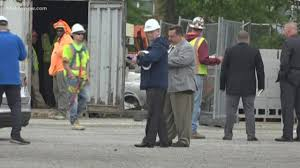helmet: (146, 18, 161, 31), (192, 16, 205, 29), (71, 24, 86, 31)
